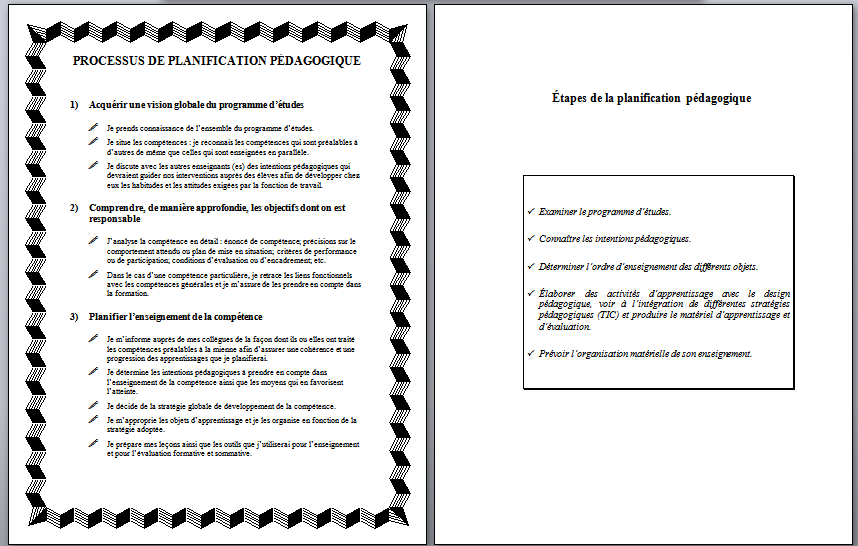texte: (25, 70, 46, 479), (537, 296, 590, 334), (722, 296, 774, 334), (552, 90, 681, 105), (649, 290, 755, 307), (700, 339, 757, 367), (625, 252, 677, 280), (576, 339, 628, 367), (675, 296, 713, 334), (537, 288, 598, 309), (588, 198, 633, 226), (539, 252, 584, 280), (632, 339, 677, 367), (624, 296, 657, 334), (751, 290, 794, 318), (541, 198, 582, 226), (705, 290, 745, 318), (542, 223, 579, 252), (636, 198, 673, 226), (695, 252, 731, 280), (107, 281, 171, 296), (616, 90, 680, 105), (595, 235, 689, 244), (541, 339, 570, 367), (107, 272, 208, 280), (686, 93, 751, 105), (593, 252, 619, 280), (599, 290, 640, 307), (735, 252, 759, 280), (592, 79, 612, 112), (599, 296, 616, 334), (632, 300, 698, 309), (187, 508, 215, 529), (216, 508, 244, 529), (245, 508, 273, 529), (274, 508, 302, 529), (303, 508, 331, 529), (332, 508, 360, 529), (75, 508, 102, 529), (103, 508, 130, 529), (131, 508, 158, 529), (159, 508, 186, 529), (154, 259, 166, 287), (679, 252, 691, 280), (684, 339, 696, 367), (168, 272, 208, 280), (583, 223, 593, 252), (523, 198, 533, 226), (523, 339, 533, 367), (764, 290, 790, 299), (690, 290, 698, 318), (523, 252, 530, 280), (88, 270, 98, 278), (527, 235, 535, 241), (527, 290, 532, 296)
